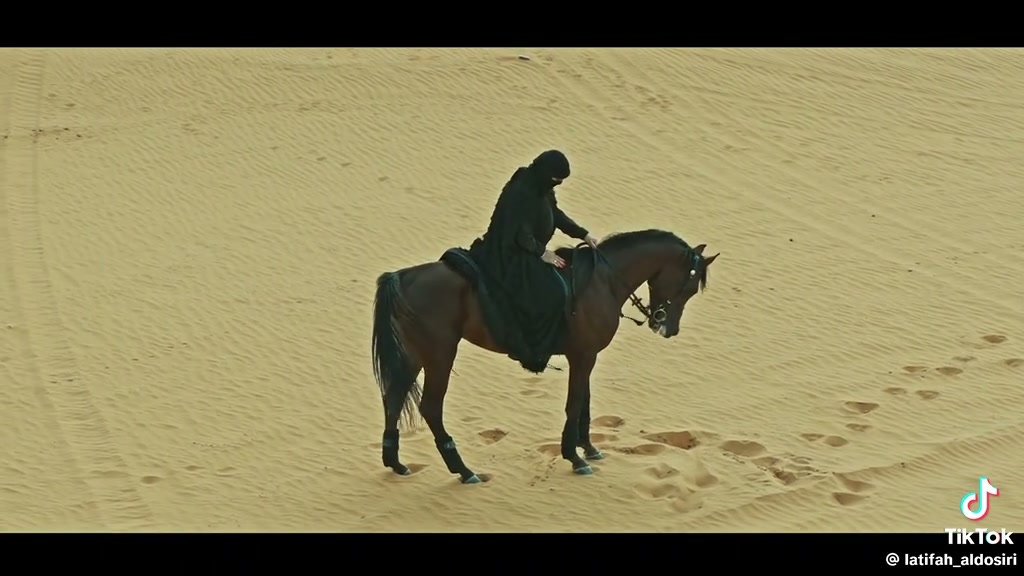animal_footprint: (632, 459, 718, 511), (749, 454, 823, 485), (641, 430, 716, 450), (831, 473, 873, 506), (719, 439, 766, 457), (961, 333, 1008, 349), (901, 365, 963, 376), (800, 433, 848, 447), (843, 401, 879, 414), (590, 416, 625, 429), (478, 428, 507, 443), (845, 422, 870, 432), (883, 387, 910, 396), (1002, 358, 1023, 368)
